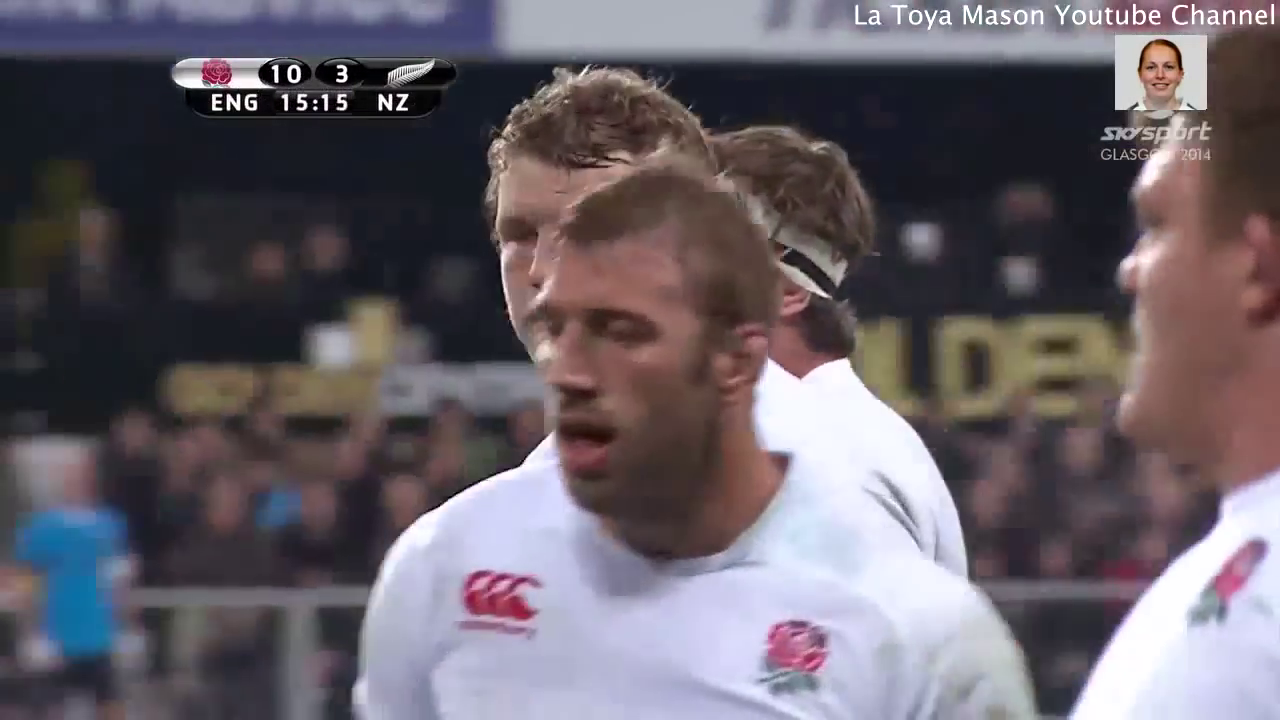player: (343, 148, 1063, 720), (685, 90, 1029, 604), (1061, 20, 1280, 720), (467, 42, 737, 356)
